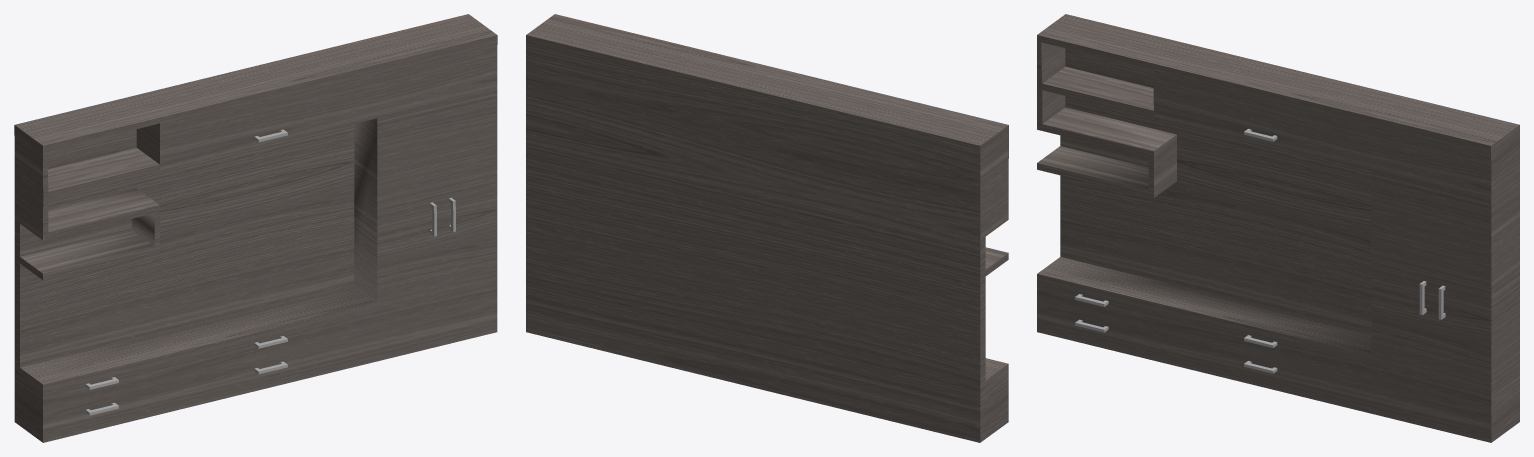
Rendered from furniture1.FBX.
3 renders of one model, left to right at view 1: azimuth 30°, elevation 25°; view 2: azimuth 150°, elevation 25°; view 3: azimuth 330°, elevation 25°, orthographic.
Parts seen in each view (by area): view 1: Furniture_1; view 2: Furniture_1; view 3: Furniture_1.
Part boxes in pixels (bbox=[...]): Furniture_1: bbox=[14, 14, 497, 442]; Furniture_1: bbox=[526, 14, 1008, 442]; Furniture_1: bbox=[1037, 14, 1519, 442].
Size of the model in its own units: 841 by 526 by 106.
